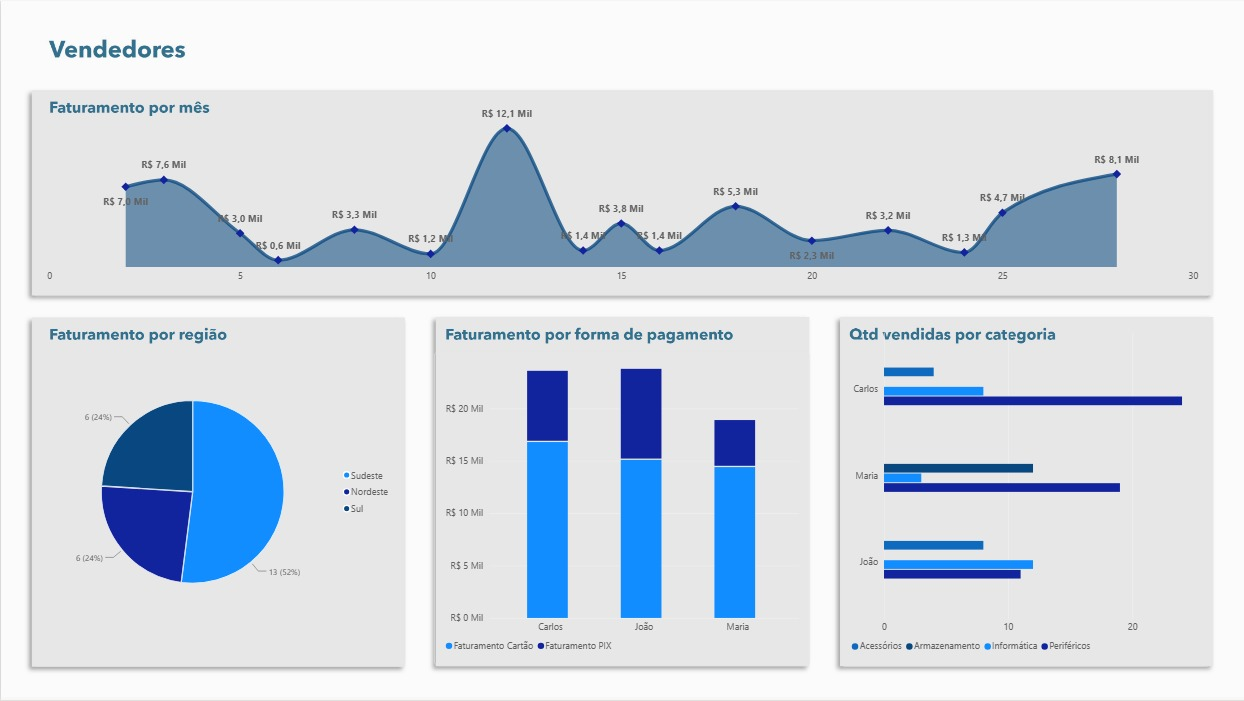

What the dashboard file says about the page in this screenshot:
{"tool":"powerbi","page":{"name":"Vendedores","canvas":[1920,1080],"ordinal":1},"visuals":[{"type":"lineChart","fields":{"Category":["Folha1.Data.Variation.Hierarquia de datas.Ano","Folha1.Data.Variation.Hierarquia de datas.Trimestre","Folha1.Data.Variation.Hierarquia de datas.Mês","Folha1.Data.Variation.Hierarquia de datas.Dia"],"Y":["Medidas.Faturamento"]},"box":[47.6,138.7,1820.9,317],"z":0},{"type":"pieChart","fields":{"Category":["Folha1.Região"],"Y":["CountNonNull(Folha1.Vendedor)"]},"box":[47.6,489.4,576.6,538.9],"z":1000},{"type":"columnChart","fields":{"Category":["Folha1.Vendedor"],"Y":["Medidas.Faturamento Cartão","Medidas.Faturamento PIX"]},"box":[669.7,540.9,580.6,487.4],"z":2000},{"type":"clusteredBarChart","fields":{"Category":["Folha1.Vendedor"],"Series":["Folha1.Categoria"],"Y":["Medidas.Qtd produtos vendidos"]},"box":[1295.9,489.4,572.6,538.9],"z":3000}]}

Visuals, with their boxes in screenshot pixels (x1, y1, x2, y2), scaled from the page's 1920x1080 canvas onto the 1244x701 screenshot:
lineChart - Folha1.Data.Variation.Hierarquia de datas.Ano x Folha1.Data.Variation.Hierarquia de datas.Trimestre: rect(31, 90, 1211, 296)
pieChart - Folha1.Região x CountNonNull(Folha1.Vendedor): rect(31, 318, 404, 667)
columnChart - Folha1.Vendedor x Medidas.Faturamento Cartão: rect(434, 351, 810, 667)
clusteredBarChart - Folha1.Vendedor x Folha1.Categoria: rect(840, 318, 1211, 667)
